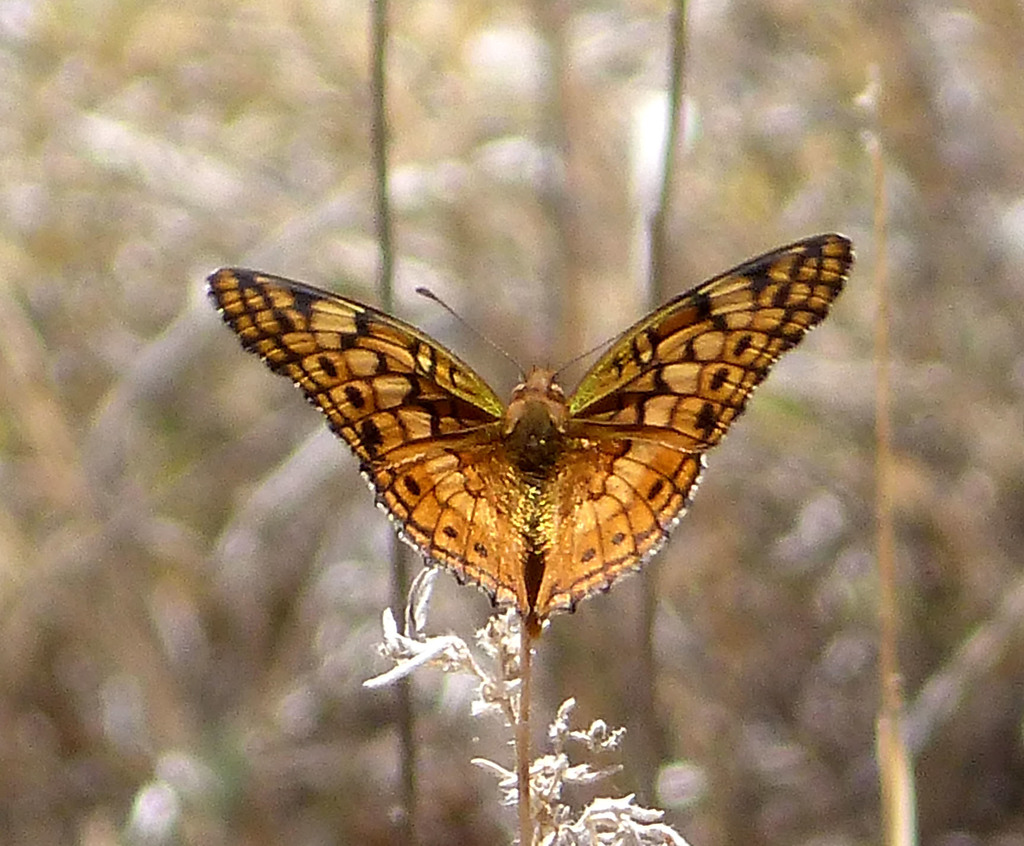Butterfly: (190, 189, 865, 633)
